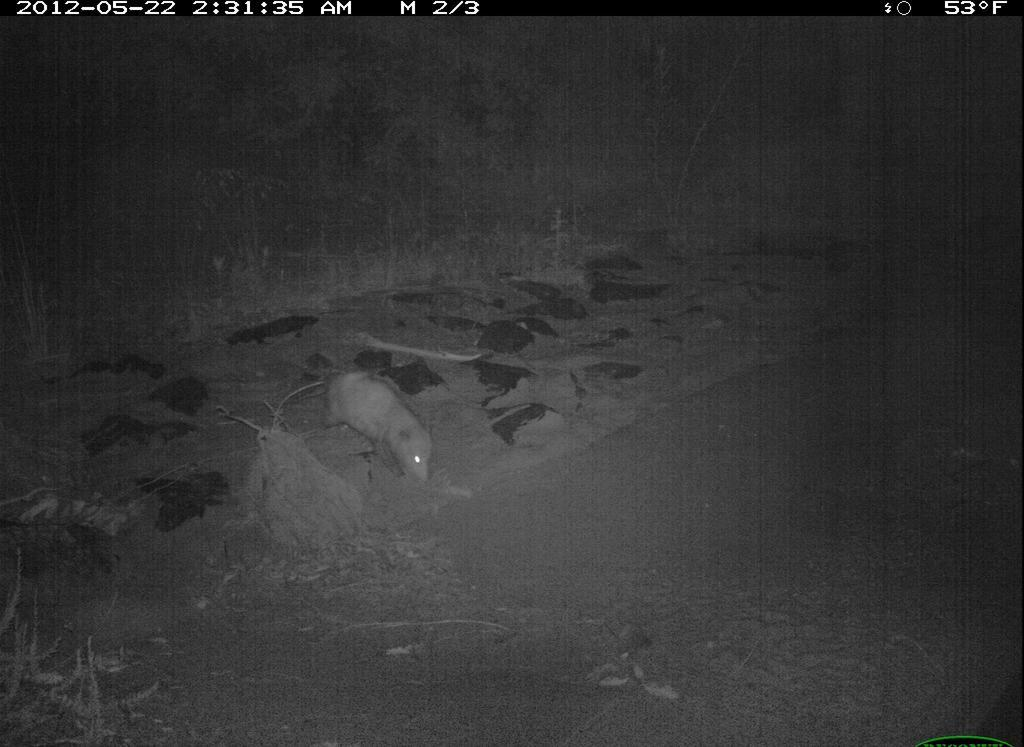opossum: (301, 365, 441, 492)
